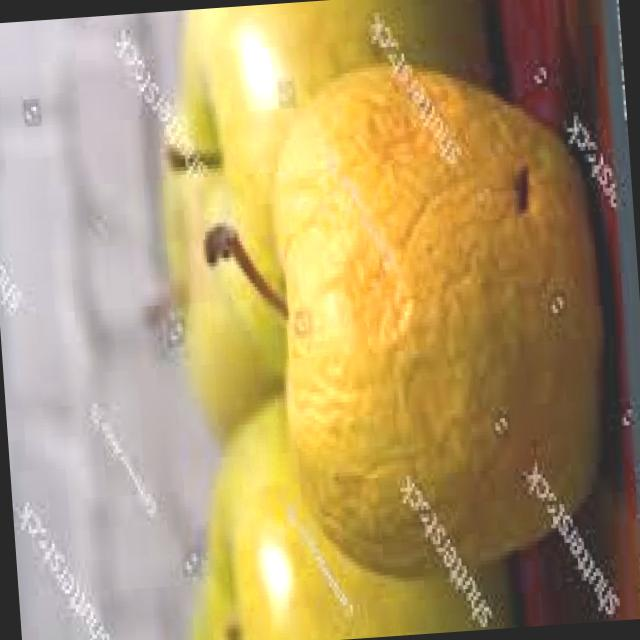Green Juicy Apple: (182, 0, 494, 367), (192, 386, 502, 640)
Rotten Apple: (266, 49, 613, 578)
